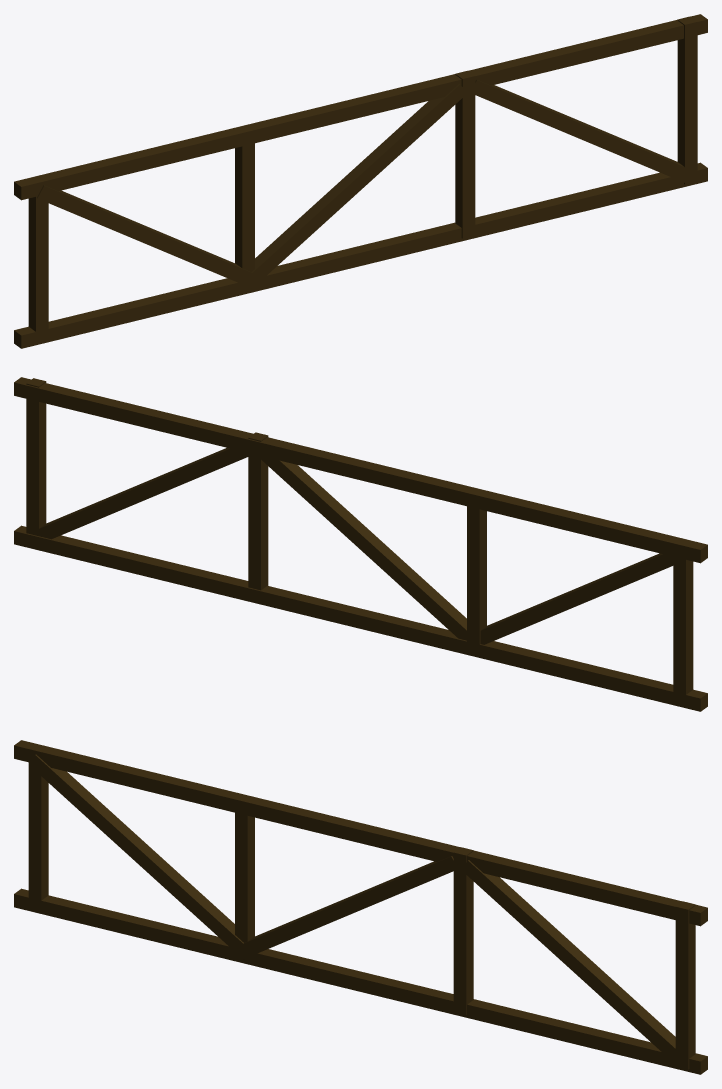
Rendered from klesta za krov 2x3.FBX.
The picture shows the model from 3 angles, top to bottom: view 1: azimuth 30°, elevation 25°; view 2: azimuth 150°, elevation 25°; view 3: azimuth 330°, elevation 25°; orthographic projection.
Visible parts, largest first — view 1: Box526; view 2: Box526; view 3: Box526.
Boxes of the visible parts, box(x1,y1,x2,y2) form: Box526: box(14, 14, 707, 348); Box526: box(14, 377, 707, 711); Box526: box(14, 740, 707, 1074).
Size of the model in its own units: 540 by 122 by 11.19.
